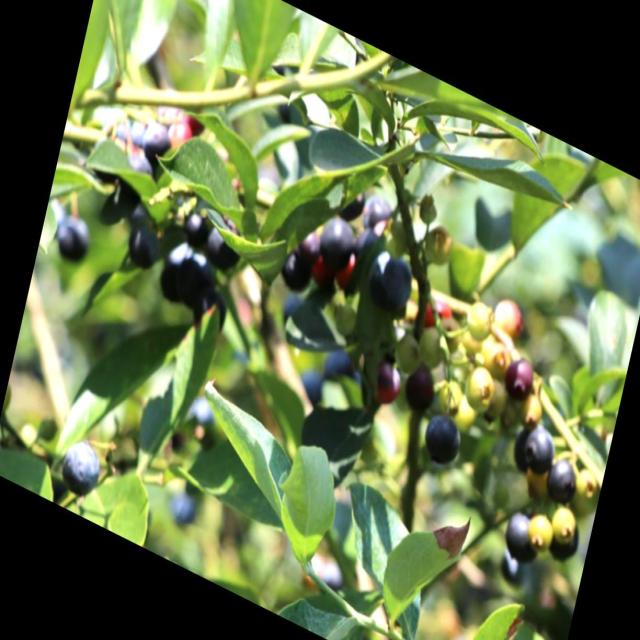blueberry: (364, 242, 418, 320), (497, 499, 550, 572), (54, 431, 105, 504), (510, 411, 558, 483), (51, 207, 96, 275), (419, 406, 466, 471), (120, 214, 164, 278), (400, 355, 442, 421), (540, 445, 584, 508), (315, 209, 358, 272), (159, 234, 198, 302), (200, 206, 244, 266), (365, 356, 407, 413), (359, 183, 397, 241), (501, 347, 537, 407), (278, 239, 315, 297), (546, 515, 583, 572)
blueberry-halfripe: (492, 290, 526, 342), (166, 118, 193, 154)
blueberry-unripe: (460, 357, 498, 412), (412, 320, 447, 373), (460, 292, 495, 340), (479, 333, 512, 383), (545, 497, 579, 545), (527, 507, 558, 553)
